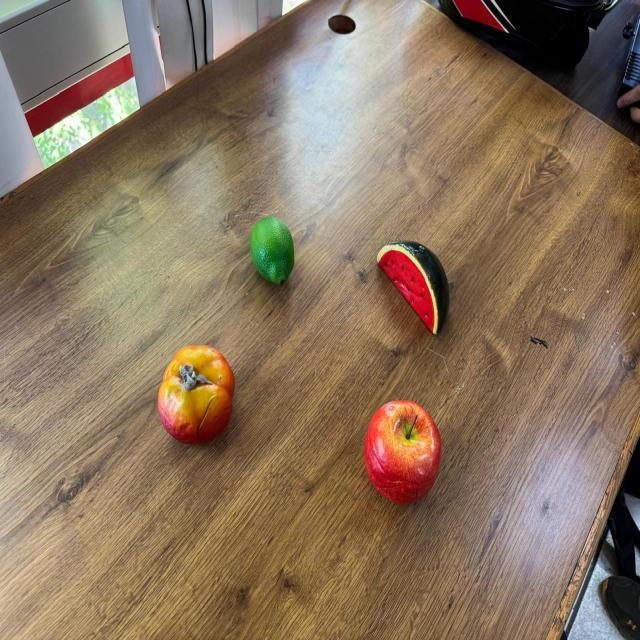apple: (364, 400, 444, 503)
lemon: (250, 216, 295, 285)
tomato: (157, 345, 236, 445)
watermelon: (377, 239, 450, 336)
